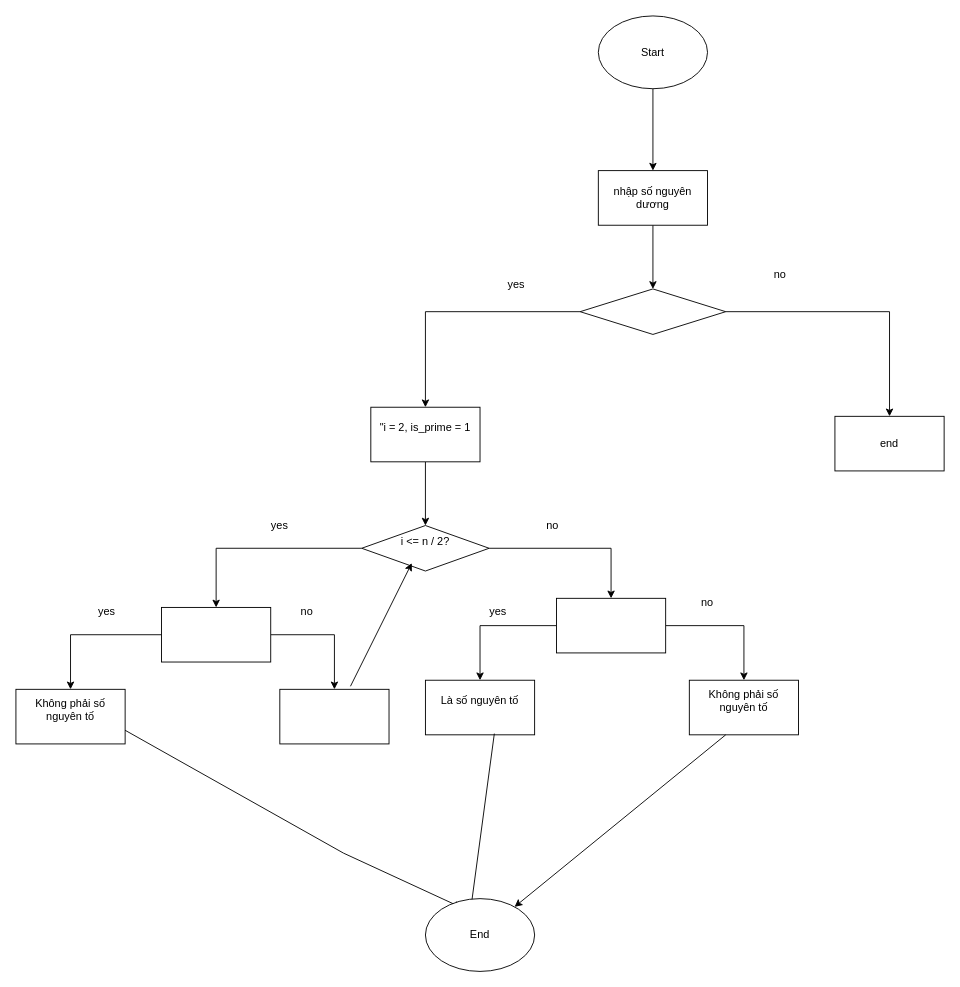
Image size: 960x987. Some labels were removed from this diagram. Here are the shapes that lost their labels. From the top down, the centre of each, then its label:
At (652,311): "n <= 1?".
At (216,634): "n % i == 0".
At (611,625): "is_prime == 1".
At (334,716): "i++".
